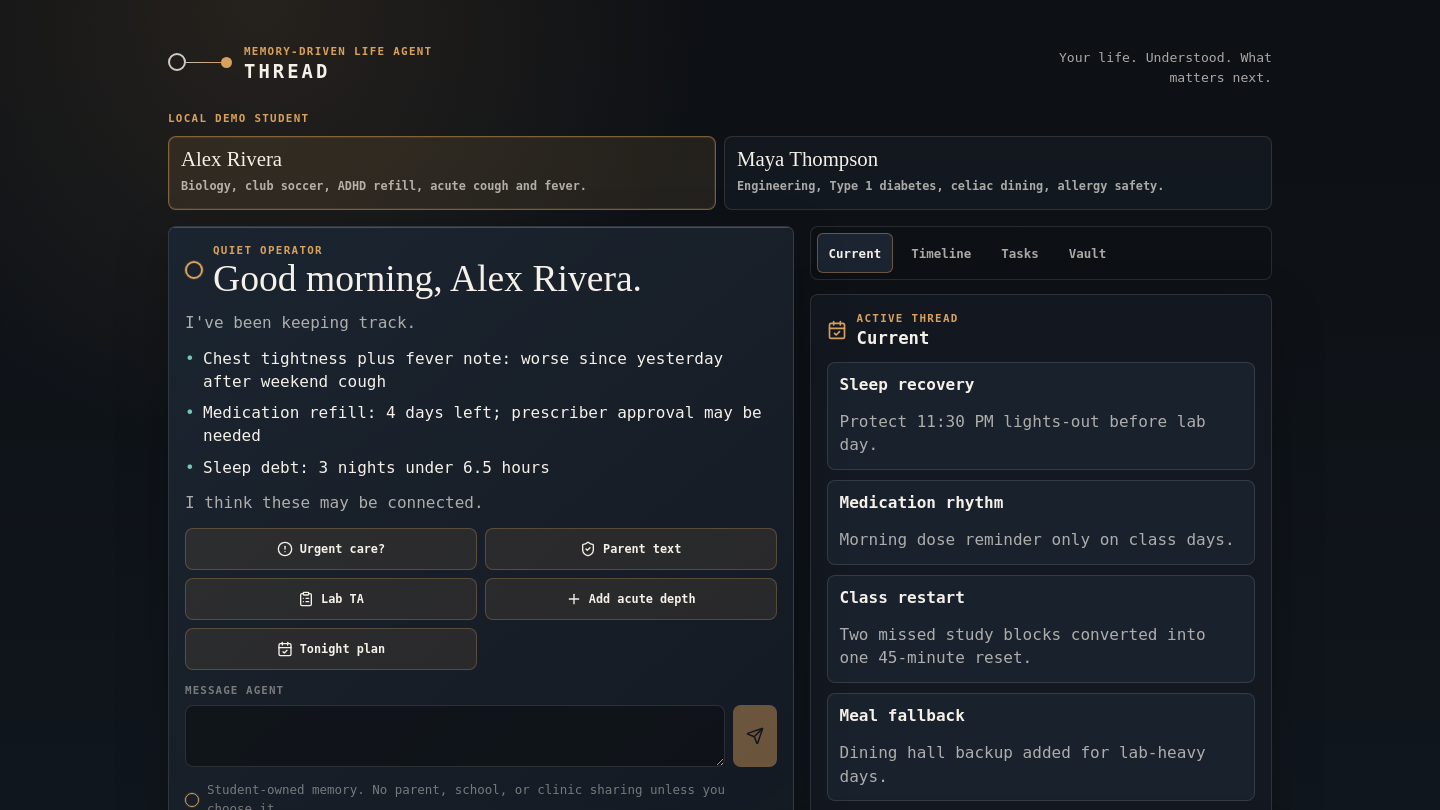
Test: THREAD app shell › saves student memory through the canary API
Click the tab "Timeline".
click(941, 254)  # box [899, 234, 983, 274]
(page scrolled)
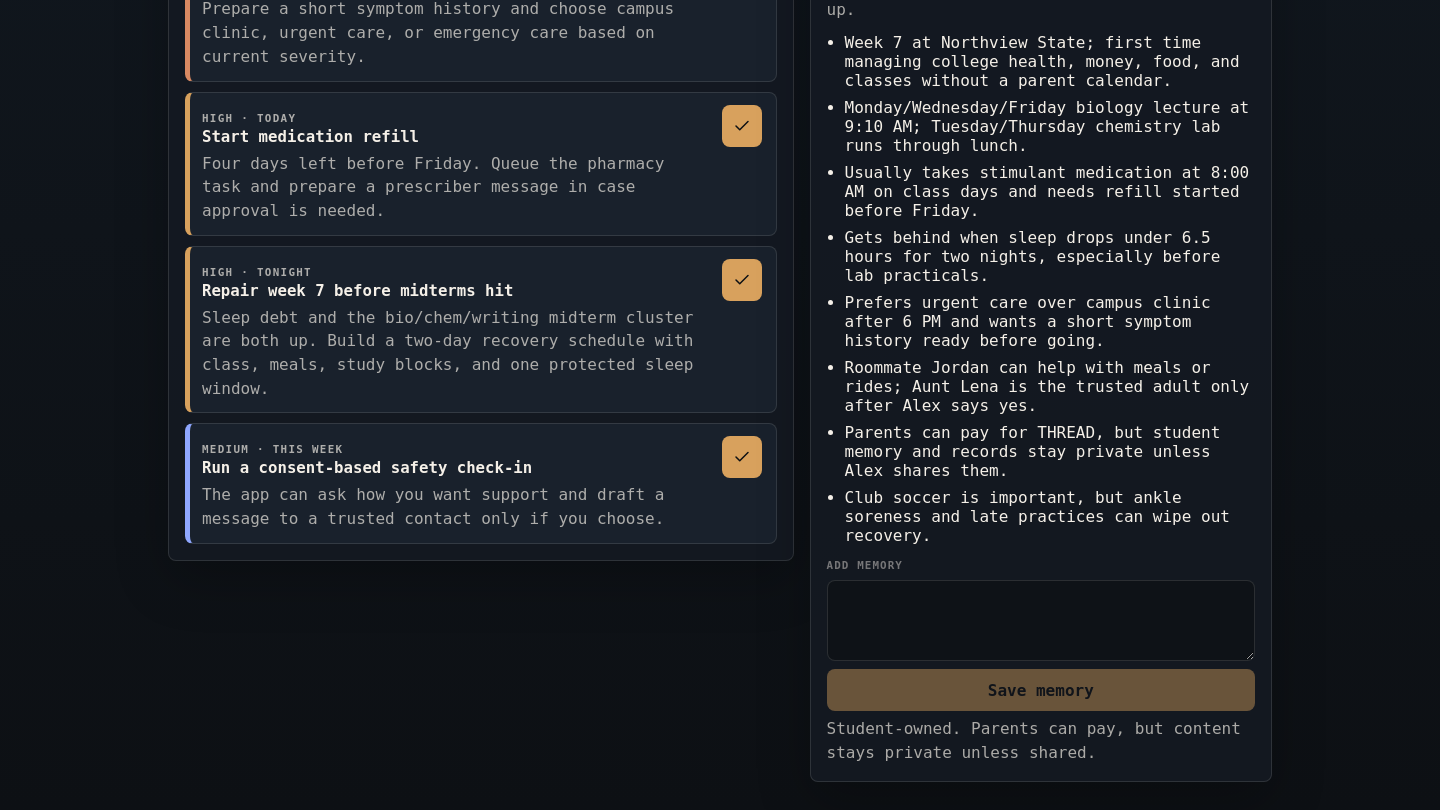
Type "Needs quiet breakfast before chemistry lab." into the text box labelled "Add memory".
click(1041, 621); type("Needs quiet breakfast before chemistry lab.")  # box [827, 580, 1255, 661]
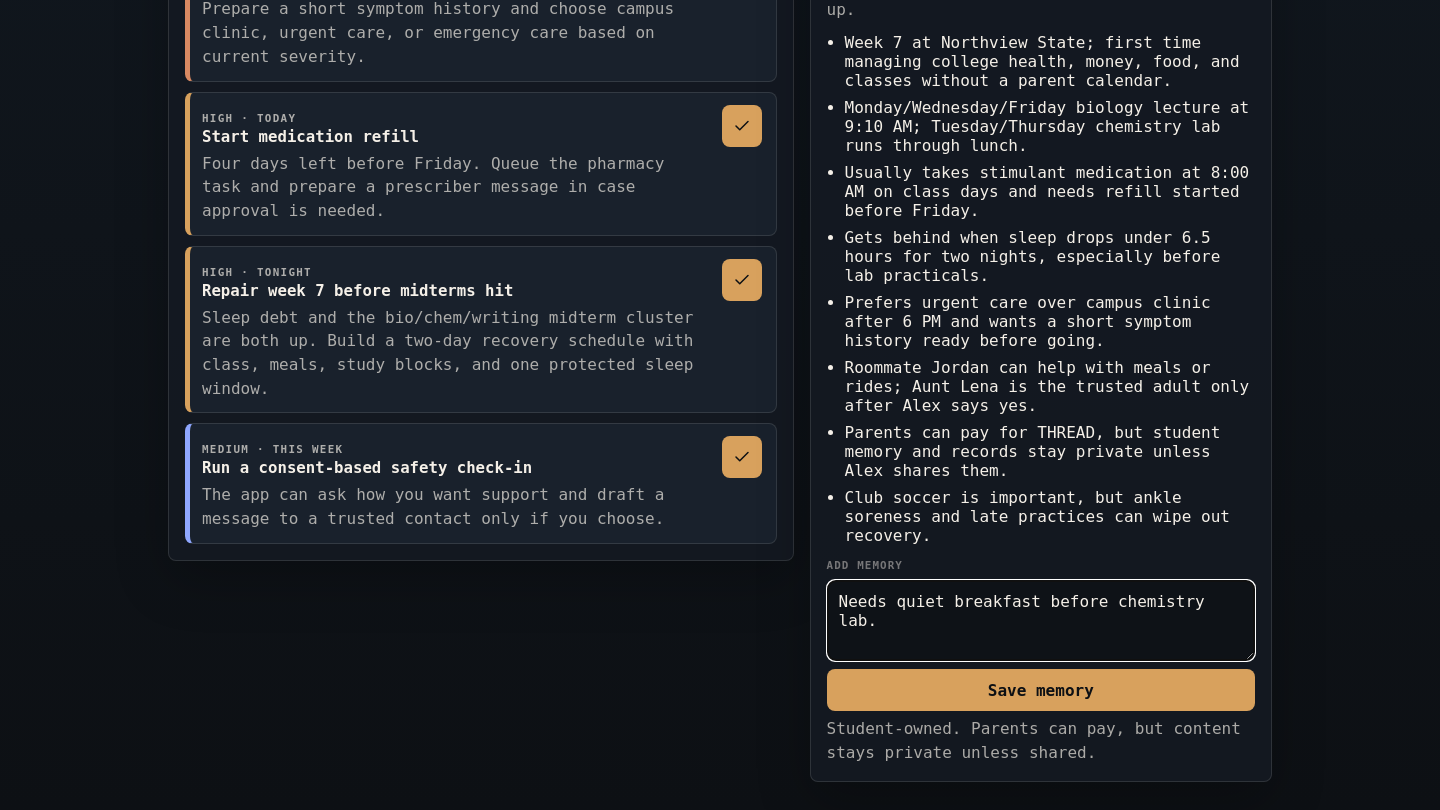
Click the button "Save memory".
click(1041, 690)  # box [827, 669, 1255, 711]
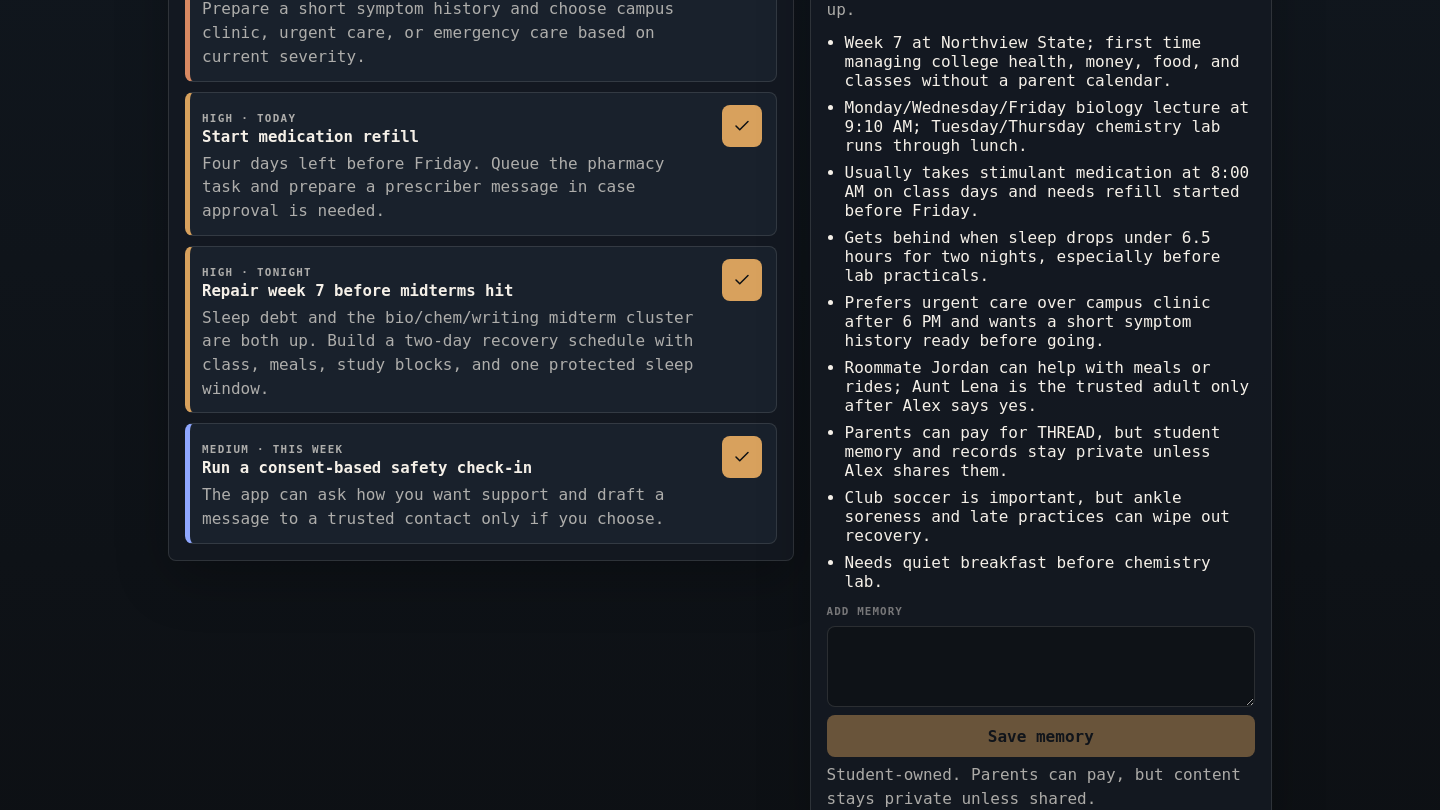
Check: the list item "Needs quiet breakfast before chemistry lab." is shown, box [845, 553, 1255, 591]
